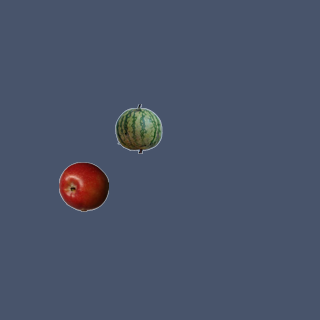Apple Braeburn: (58, 161, 108, 211)
Watermelon: (113, 103, 163, 153)
